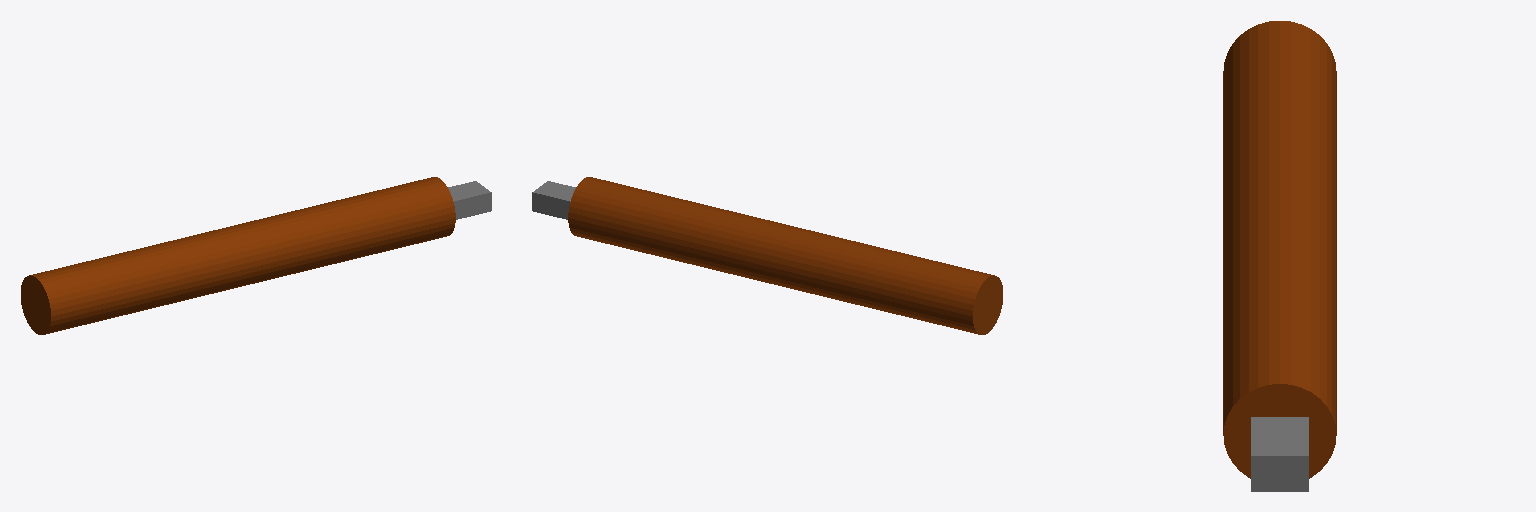
URDF robot description (handle_head):
<?xml version="1.0"?>
<robot name="handle_head">

  <link name="handle_head">
    <!-- Handle -->
    <visual>
              <origin xyz="0 0 0" rpy="0 -1.5707963267948966 0"/>
        <geometry>
          <cylinder length="0.13840785727018284" radius="0.009112032918030087"/>
        </geometry>
        
      <material name="brown">
        <color rgba="0.55 0.27 0.07 1.0"/>
      </material>
    </visual>
    <collision>
              <origin xyz="0 0 0" rpy="0 -1.5707963267948966 0"/>
        <geometry>
          <cylinder length="0.13840785727018284" radius="0.009112032918030087"/>
        </geometry>
        
    </collision>

    <!-- Head -->
    <visual>
              <origin xyz="0.07660285657474257 0 0" rpy="0 0 0"/>
        <geometry>
          <box size="0.014797855879302307 0.009318235841159513 0.006254926715164675"/>
        </geometry>
        
      <material name="gray">
        <color rgba="0.5 0.5 0.5 1.0"/>
      </material>
    </visual>
    <collision>
              <origin xyz="0.07660285657474257 0 0" rpy="0 0 0"/>
        <geometry>
          <box size="0.014797855879302307 0.009318235841159513 0.006254926715164675"/>
        </geometry>
        
    </collision>

    <inertial>
      <origin xyz="0.0019660744800969574 0 0" rpy="0 0 0"/>
      <mass value="0.01250409095242232"/>
      <inertia ixx="5.009844373742228e-07" iyy="2.5159943069150422e-05" izz="2.5161218901237785e-05" ixy="0" ixz="0" iyz="0"/>
    </inertial>
  </link>

</robot>

--- Render facts (derived) ---
3 views of the same robot in one strip: view 1: azimuth 30°, elevation 25°; view 2: azimuth 150°, elevation 25°; view 3: azimuth 270°, elevation 25° (orthographic).
Robot: handle_head — 1 links, 0 joints (none); root link handle_head; default pose: every joint at zero.
Links seen in each view (by area): view 1: handle_head; view 2: handle_head; view 3: handle_head.
Boxes of the visible links, <box> form: handle_head: <box>21,177,491,334</box>; handle_head: <box>532,177,1002,334</box>; handle_head: <box>1223,21,1336,491</box>.
Bounding box of the posed robot: 0.1532 × 0.0182 × 0.0182 m (x, y, z).
Geometry: primitives only (box / cylinder / sphere), no mesh files.
